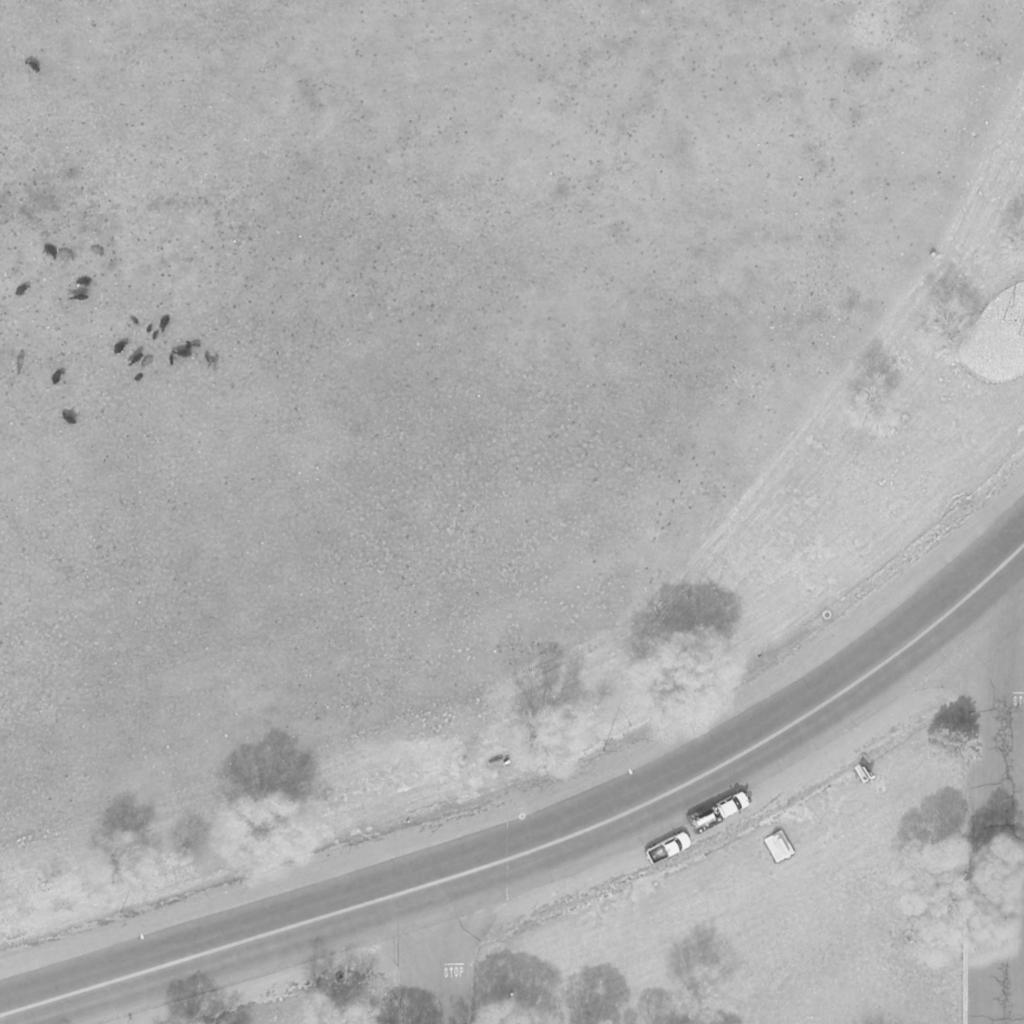vehicle: (689, 790, 751, 834), (644, 835, 698, 867)
